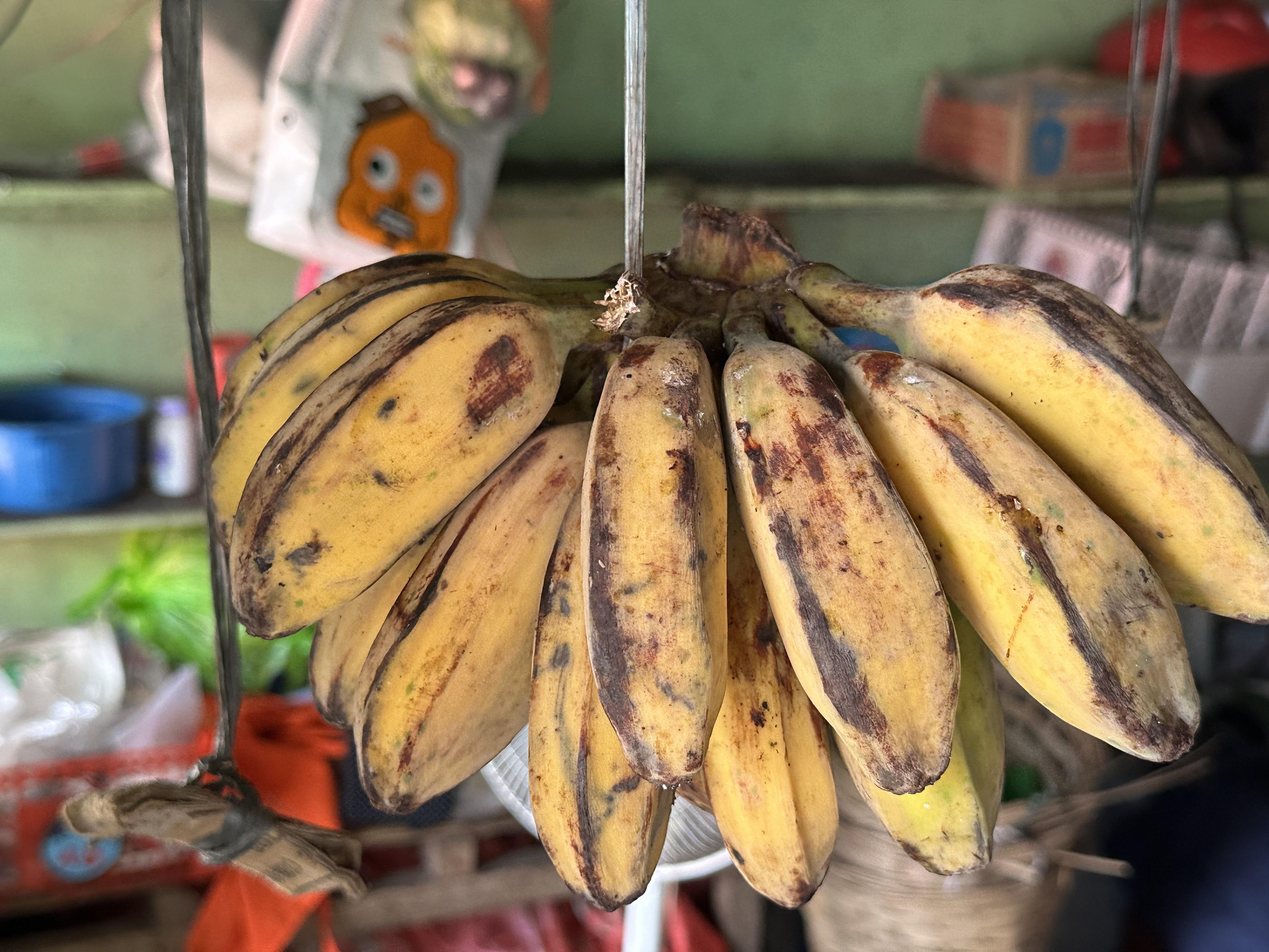ripe: (210, 258, 1269, 906)
